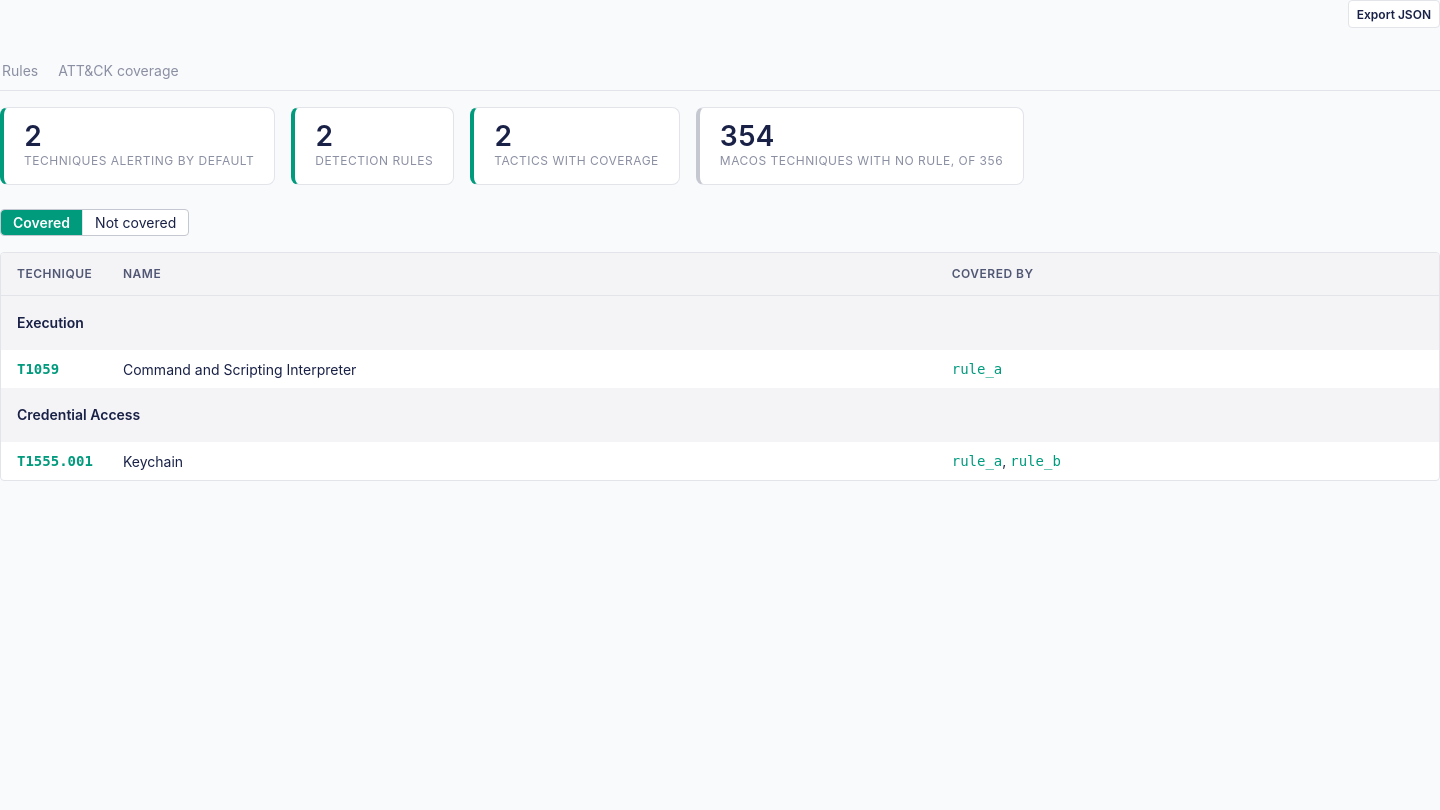
AttackCoverage gaps › lists a macOS technique nothing covers and leaves a Windows-only one out
The width and height of the screenshot is (1440, 810).
Step 1. Click the button "Not covered" → (136, 222), box [83,210,188,235]
(page scrolled)
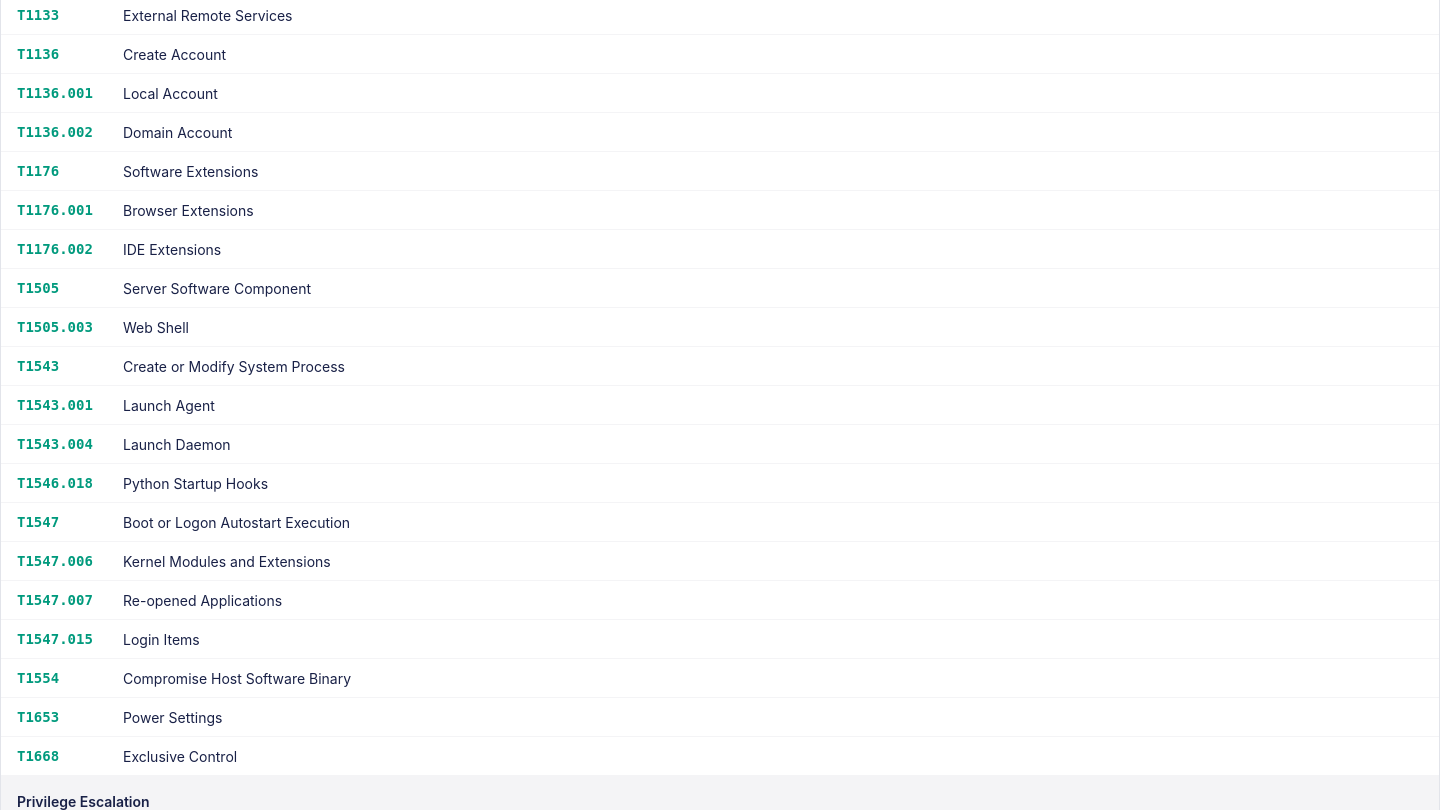
Check: the link "T1543.001" is shown, box [17,397,93,413]
